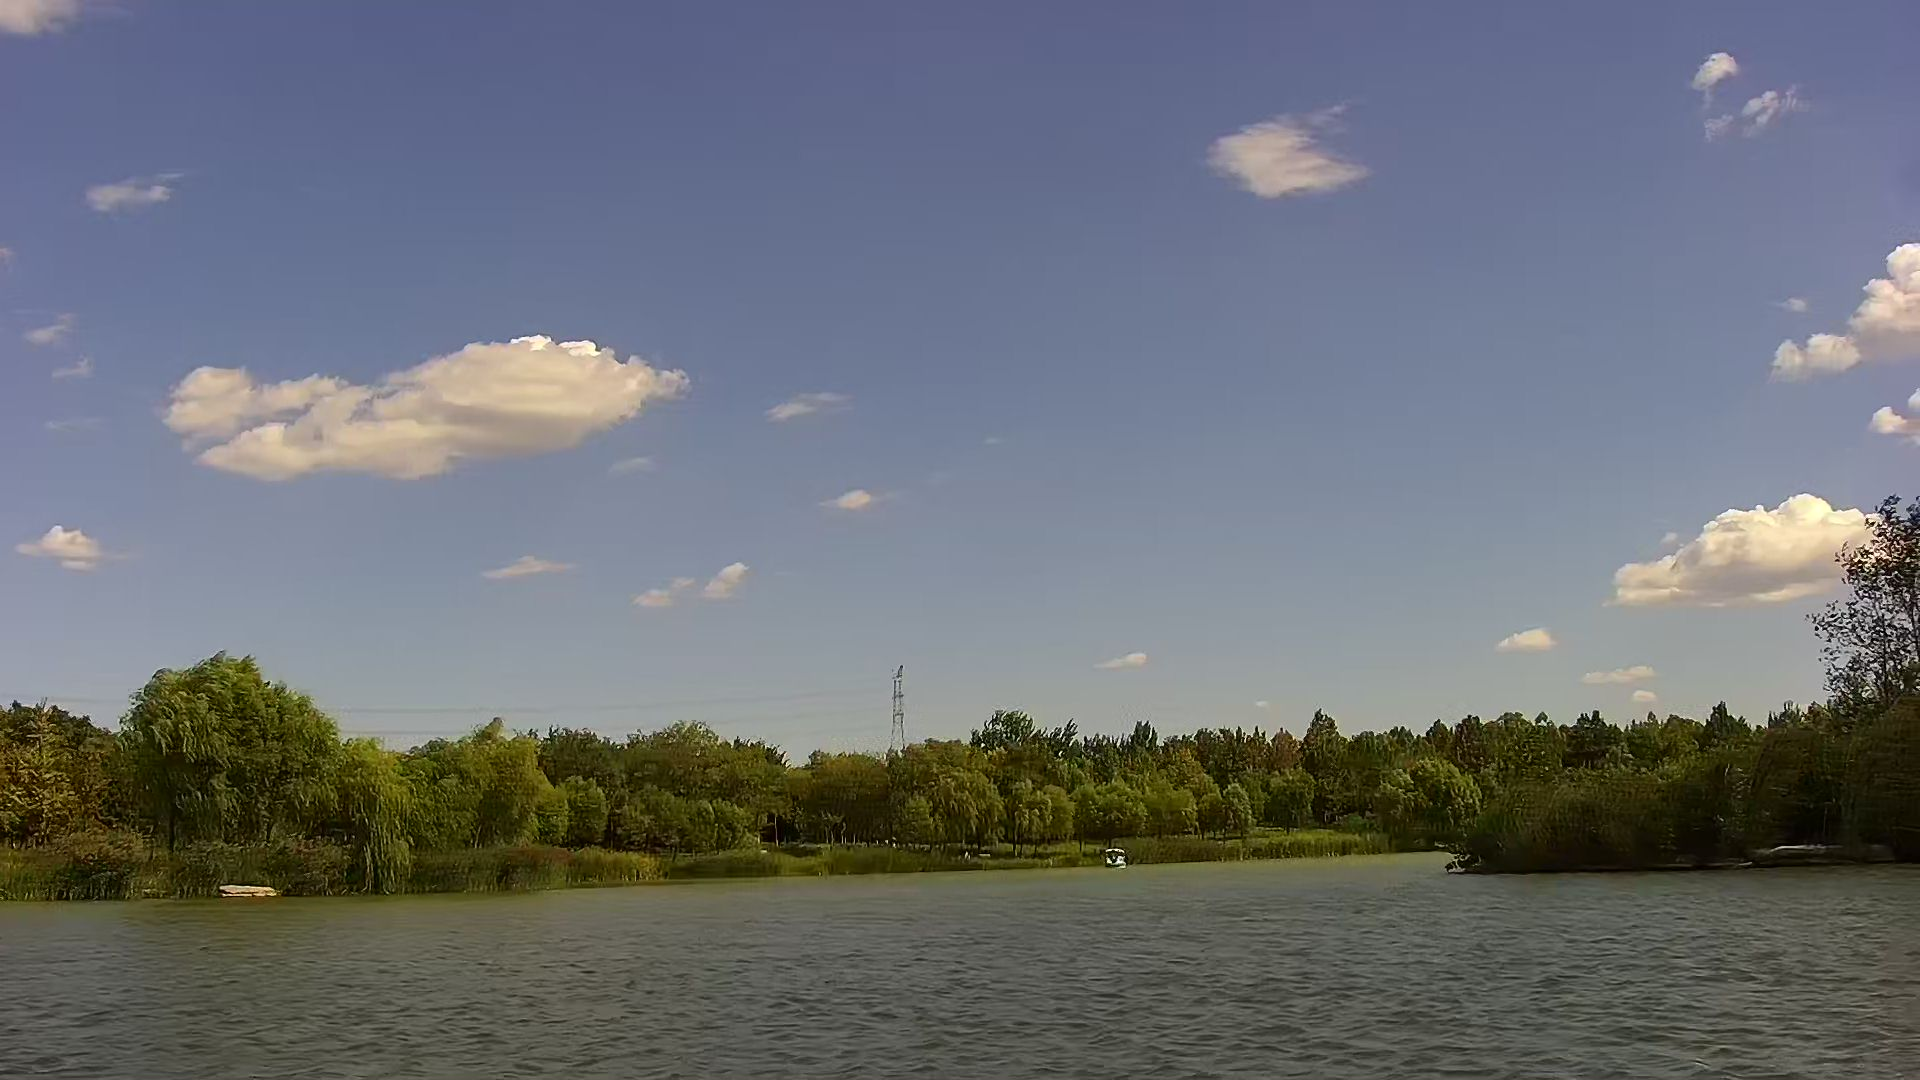boat: (1102, 847, 1127, 868)
rock: (220, 884, 270, 897)
